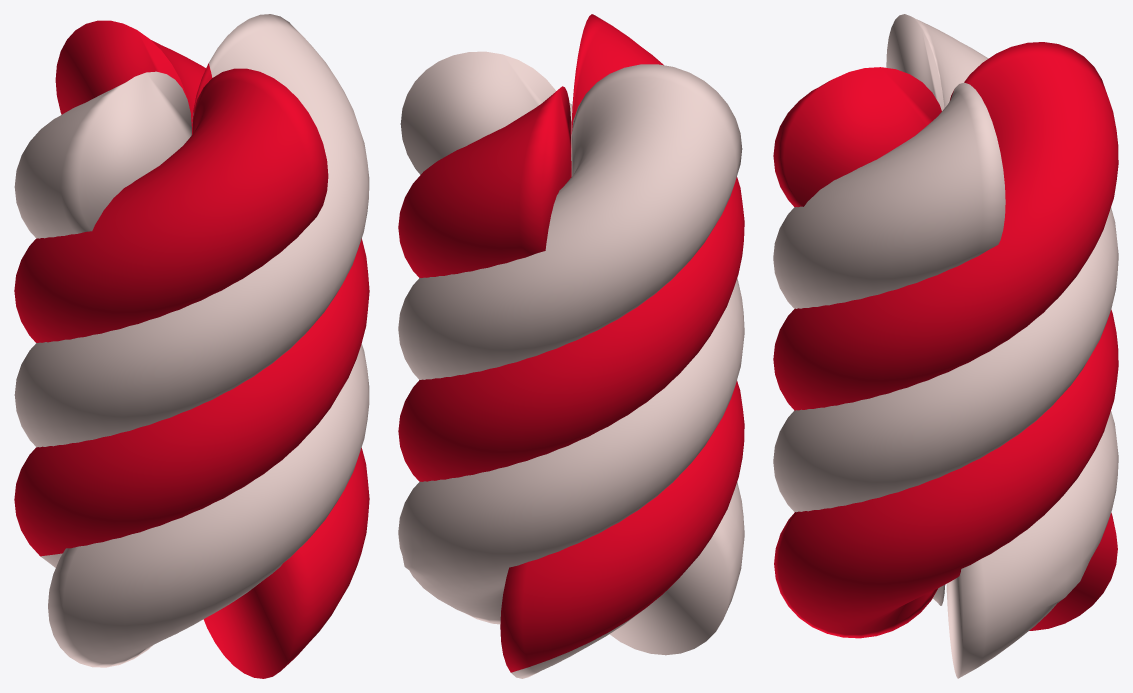
The model's file is marshmallow 1.fbx.
The picture shows the model from 3 angles, left to right: view 1: azimuth 30°, elevation 25°; view 2: azimuth 150°, elevation 25°; view 3: azimuth 270°, elevation 25°; orthographic projection. The views are drawn at different scales.
Visible parts, largest first — view 1: marshmallow; view 2: marshmallow; view 3: marshmallow.
Boxes of the visible parts, bbox=[...] form: marshmallow: bbox=[14, 14, 369, 678]; marshmallow: bbox=[398, 14, 744, 678]; marshmallow: bbox=[773, 14, 1118, 678].
Size of the model in its own units: 9.62 by 17.8 by 9.62.
